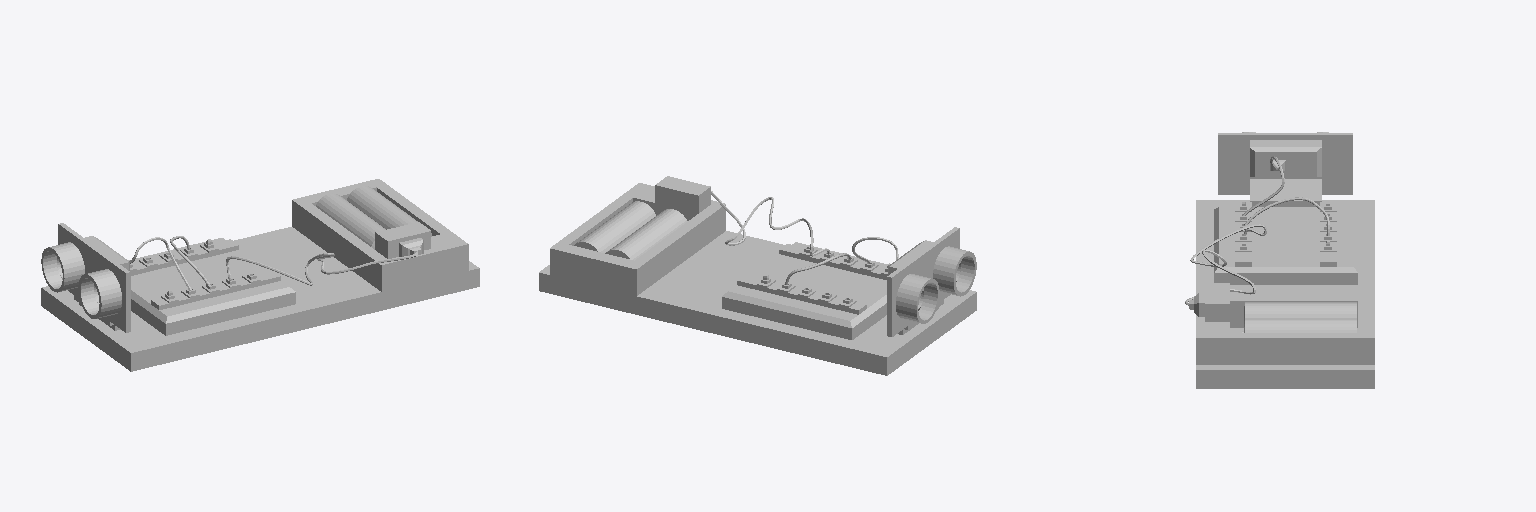
File: robot.obj
3 views of the same model, side by side, from view 1: azimuth 30°, elevation 25°; view 2: azimuth 150°, elevation 25°; view 3: azimuth 270°, elevation 25° (orthographic).
Parts seen in each view (by area): view 1: Cylinder.002_Cylinder.004, BezierCurve_BezierCurve.003; view 2: Cylinder.002_Cylinder.004, BezierCurve_BezierCurve.003; view 3: Cylinder.002_Cylinder.004, BezierCurve_BezierCurve.003.
Part boxes in pixels (left/top/right/bottom): Cylinder.002_Cylinder.004: left=41, top=179, right=479, bottom=371; BezierCurve_BezierCurve.003: left=129, top=237, right=417, bottom=290; Cylinder.002_Cylinder.004: left=539, top=176, right=976, bottom=375; BezierCurve_BezierCurve.003: left=711, top=191, right=898, bottom=263; Cylinder.002_Cylinder.004: left=1189, top=132, right=1374, bottom=388; BezierCurve_BezierCurve.003: left=1185, top=156, right=1284, bottom=305.
Size of the model in its own units: 2.91 by 0.6799 by 1.32.